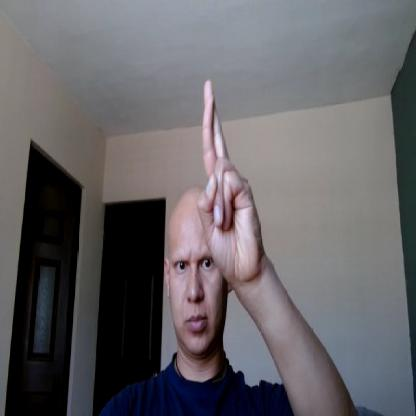R: (197, 78, 262, 288)
